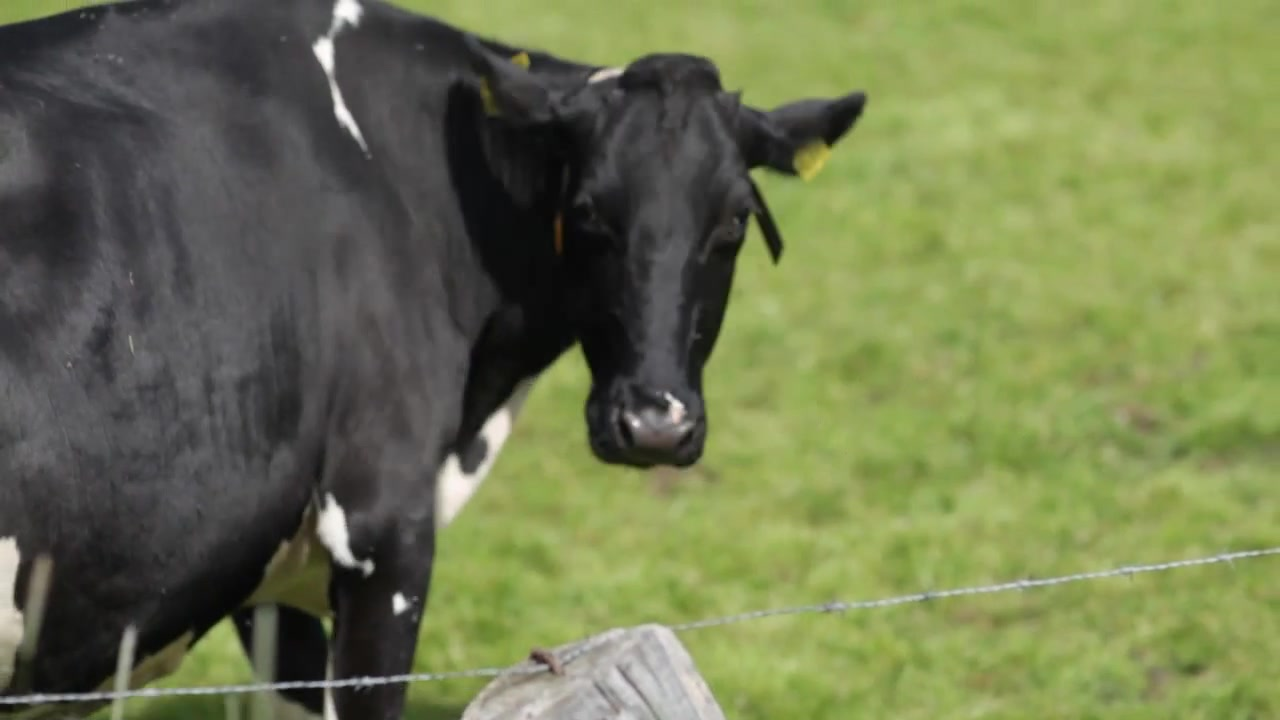cow: (1, 1, 870, 720)
